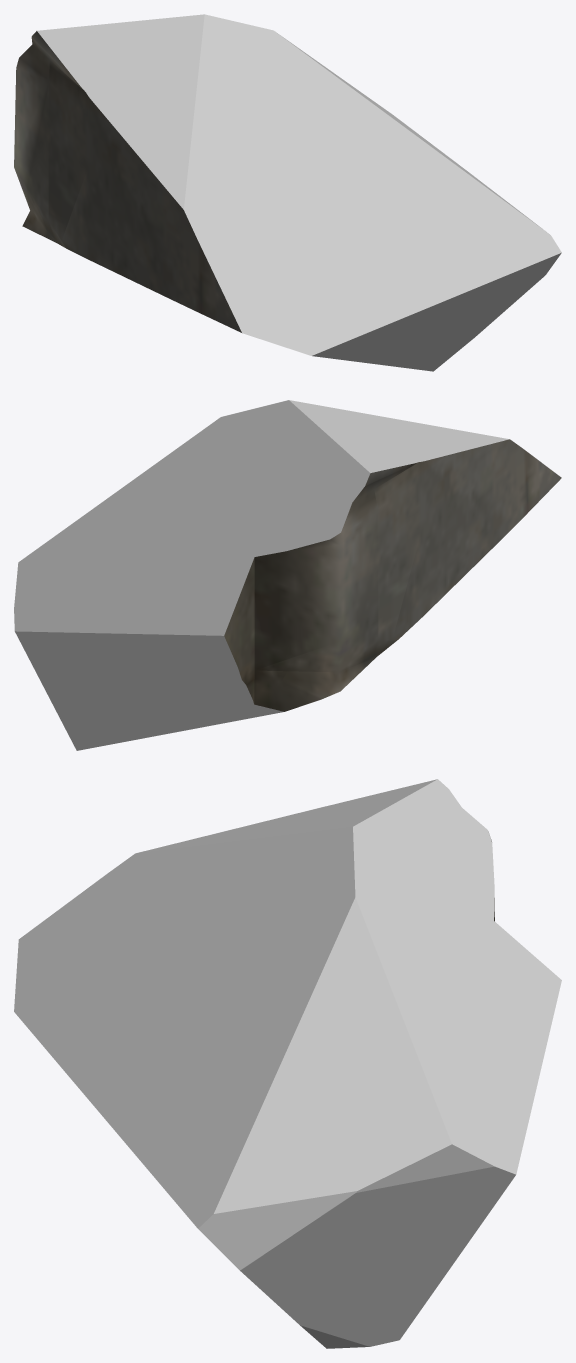
File: ColumnDamage08_49.fbx
3 renders of one model, top to bottom at view 1: azimuth 30°, elevation 25°; view 2: azimuth 150°, elevation 25°; view 3: azimuth 270°, elevation 25°, orthographic. The views are drawn at different scales.
Visible parts, largest first — view 1: ColumnDamage08_DM.049; view 2: ColumnDamage08_DM.049; view 3: ColumnDamage08_DM.049.
Part boxes in pixels (left/top/right/bottom): ColumnDamage08_DM.049: left=14, top=14, right=561, bottom=371; ColumnDamage08_DM.049: left=14, top=400, right=561, bottom=750; ColumnDamage08_DM.049: left=14, top=779, right=561, bottom=1348.
Size of the model in its own units: 130 by 121 by 145.
